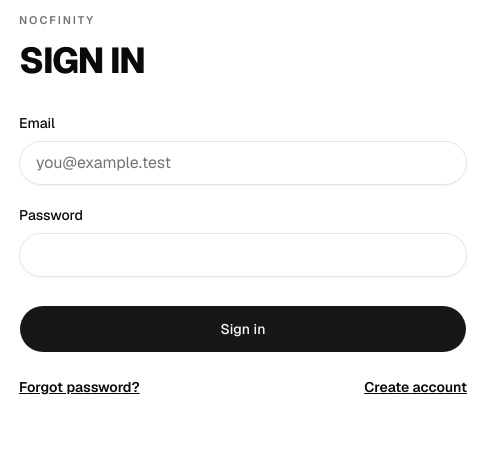
LoginForm › asks for both fields before calling the API
Click the button "Sign in" at (243, 328), box [19, 304, 467, 352]
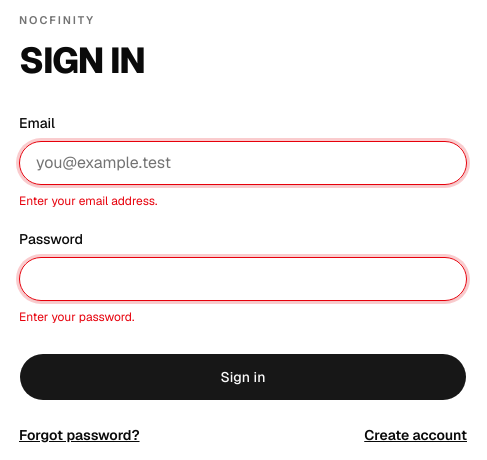
Now the text "Enter your email address." is shown, box [19, 192, 158, 208]
Now the text "Enter your password." is shown, box [19, 308, 134, 324]
